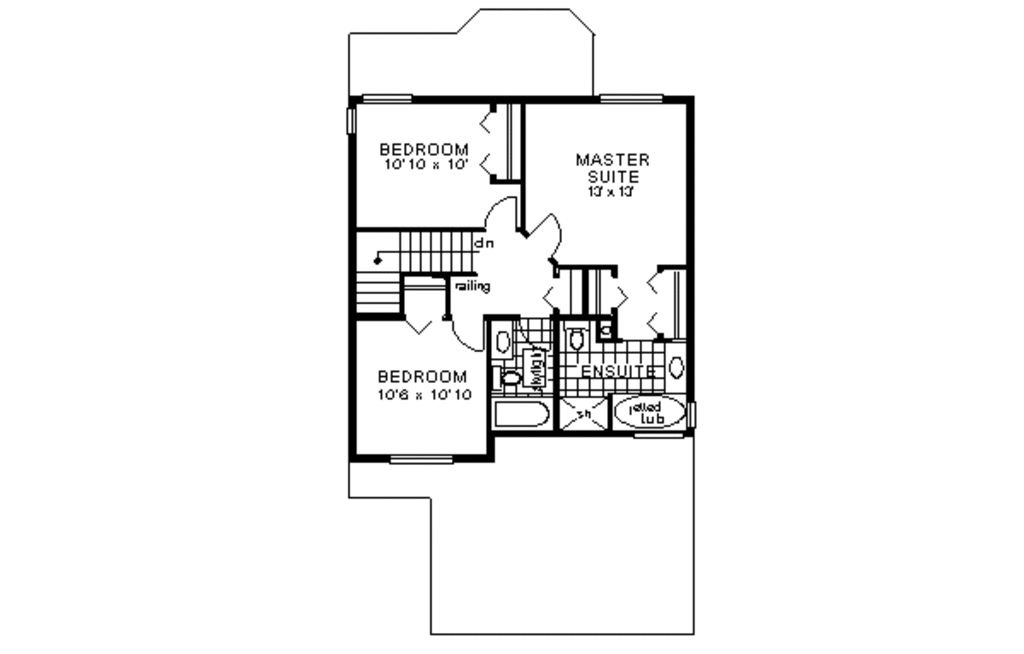door: (521, 209, 567, 264), (480, 196, 524, 227), (449, 314, 482, 352)
large_sink: (561, 317, 589, 352), (490, 361, 524, 388)
small_sink: (486, 315, 512, 363), (666, 339, 686, 391)
stairs: (351, 225, 473, 321)
tub: (493, 396, 551, 426)
window: (387, 446, 455, 467), (600, 90, 664, 105), (359, 90, 414, 105), (343, 103, 360, 133)
